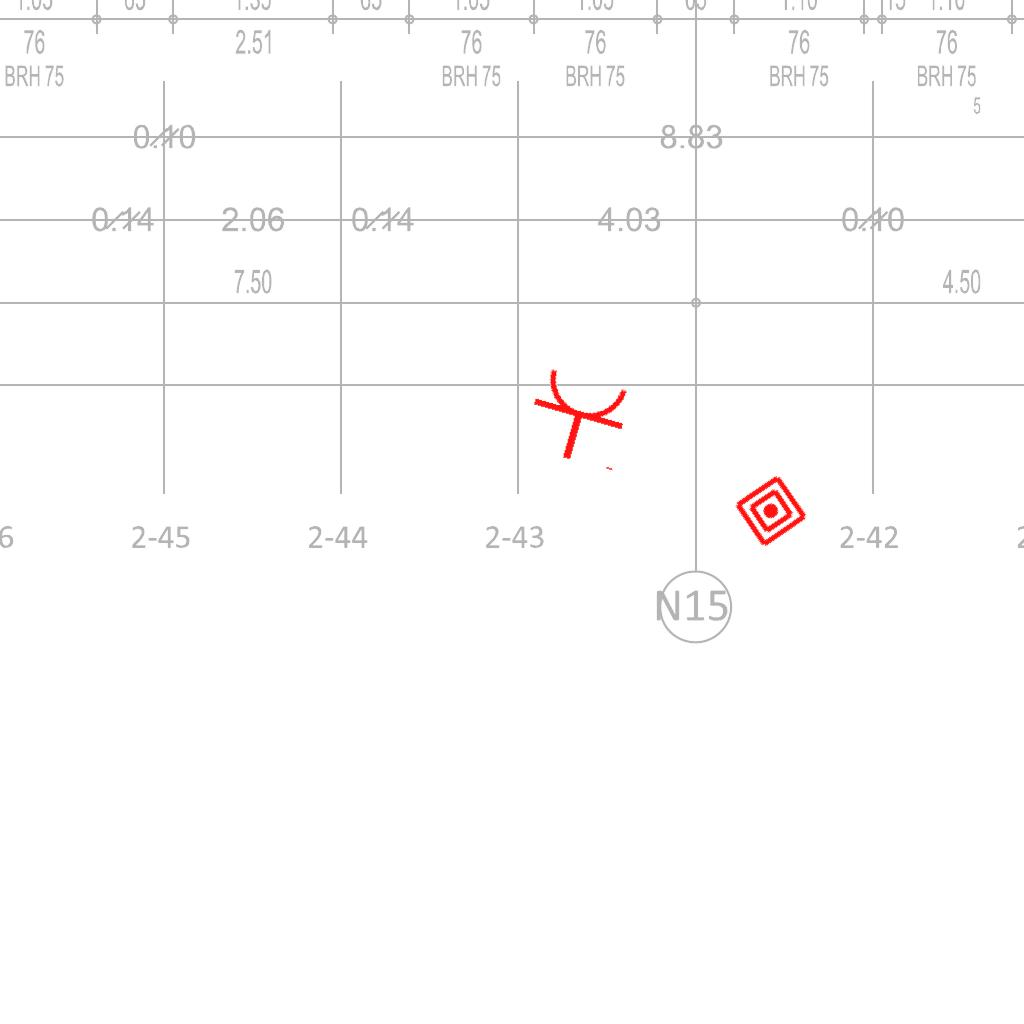NAM-Nichtautomatischer_Melder: (732, 472, 810, 550)
Schukosteckdose_einfach: (519, 363, 640, 475)
